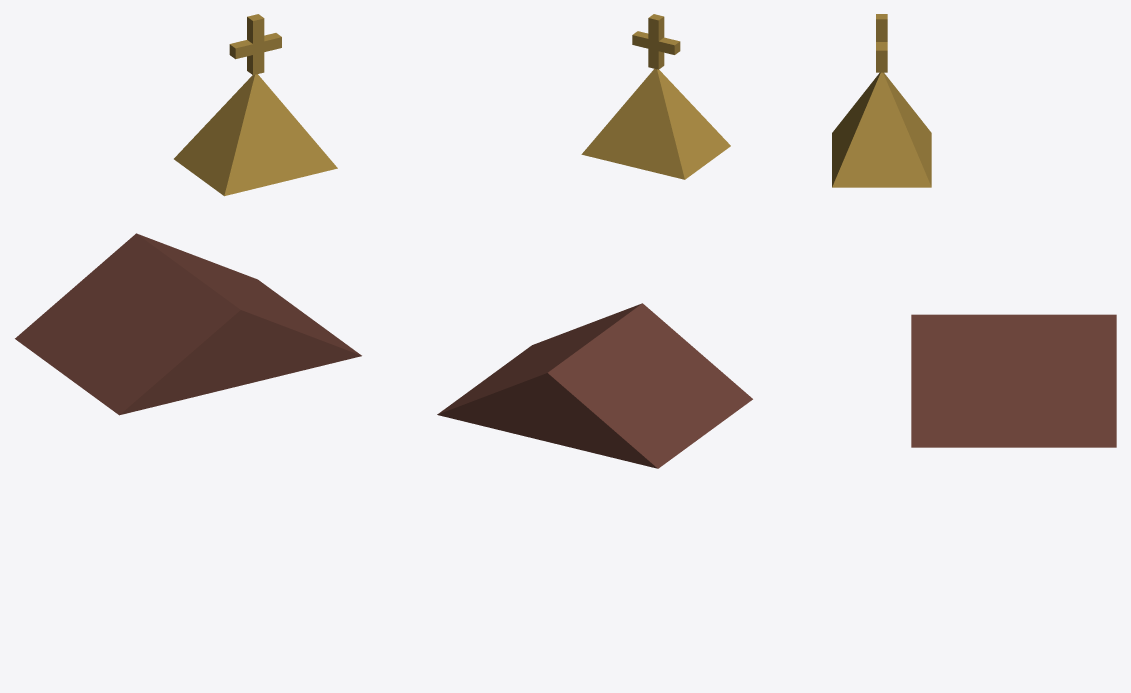
File: church_l2_lowpoly.glb
The picture shows the model from 3 angles, left to right: view 1: azimuth 30°, elevation 25°; view 2: azimuth 150°, elevation 25°; view 3: azimuth 270°, elevation 25°; orthographic projection. The views are drawn at different scales.
Parts seen in each view (by area): view 1: lp_church_l2; view 2: lp_church_l2; view 3: lp_church_l2.
Part boxes in pixels (x1,y1,x2,y2): lp_church_l2: (15, 14, 361, 415); lp_church_l2: (437, 14, 752, 468); lp_church_l2: (832, 14, 1116, 447).
Size of the model in its own units: 1.02 by 2.26 by 1.
